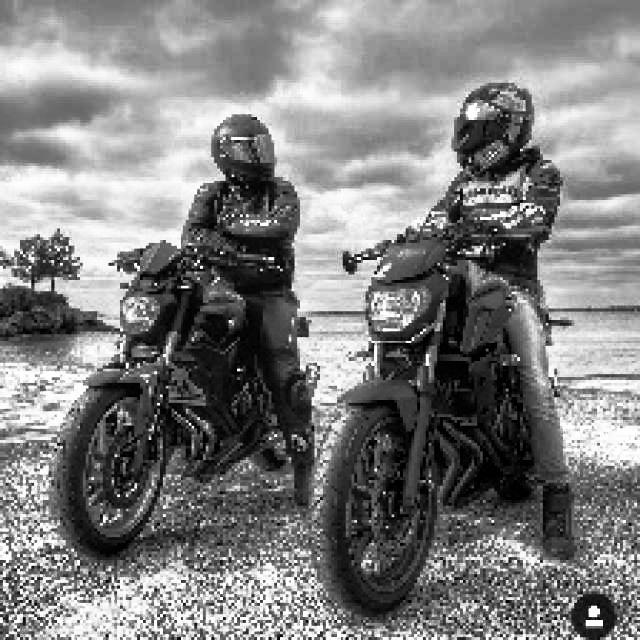Bike: (312, 260, 522, 605), (56, 244, 268, 555)
